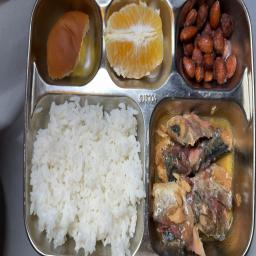100_fish: (148, 102, 242, 252)
100_nuts: (176, 3, 241, 85)
100_orange: (103, 6, 168, 85)
100_rice: (32, 97, 140, 251)
50_bread: (41, 4, 95, 82)
